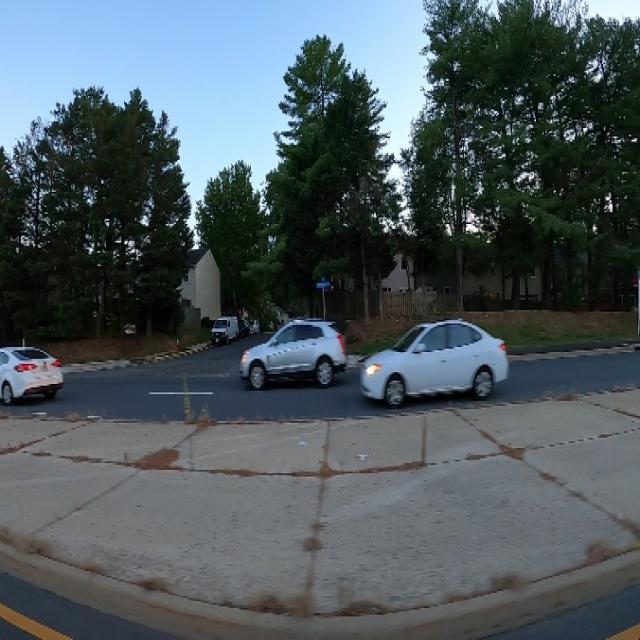car: (359, 295, 515, 416), (238, 302, 354, 403), (0, 327, 77, 414), (208, 305, 242, 354)
